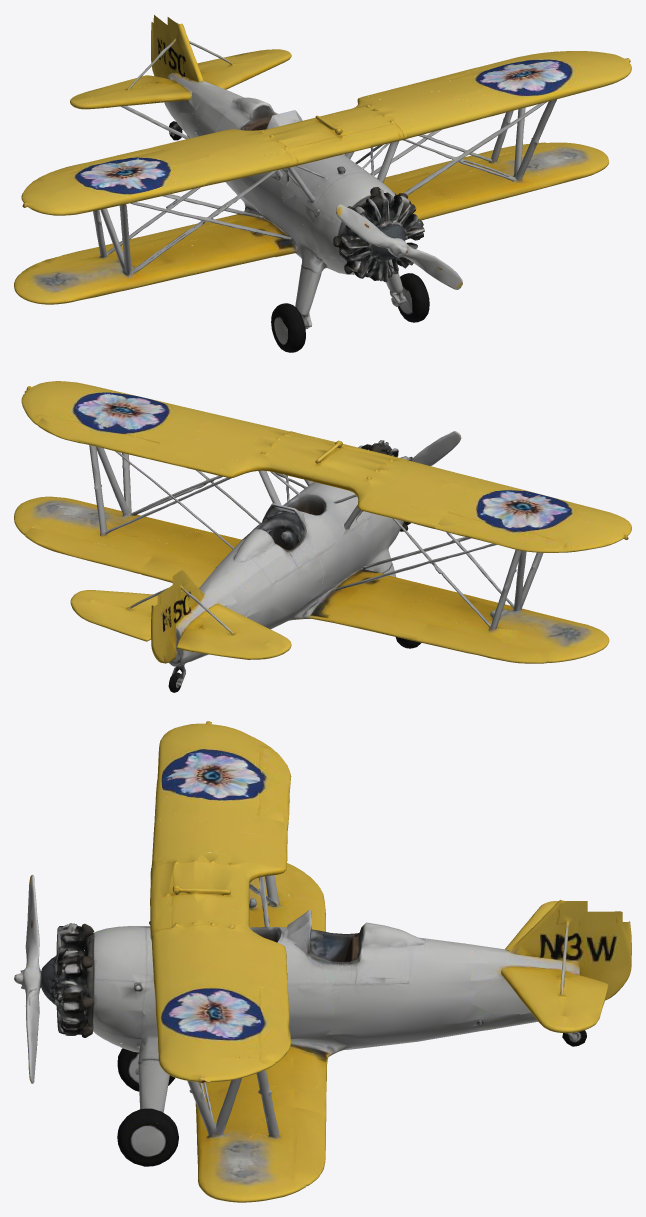
The model's file is biplane.glb.
The picture shows the model from 3 angles, top to bottom: view 1: azimuth 30°, elevation 25°; view 2: azimuth 150°, elevation 25°; view 3: azimuth 270°, elevation 25°; orthographic projection. The views are drawn at different scales.
Visible parts, largest first — view 1: tripo_node_48d347be-3a35-4177-8478-44bc4ccad605; view 2: tripo_node_48d347be-3a35-4177-8478-44bc4ccad605; view 3: tripo_node_48d347be-3a35-4177-8478-44bc4ccad605.
Part boxes in pixels (box(x1,y1,x2,y2)): tripo_node_48d347be-3a35-4177-8478-44bc4ccad605: box(14, 15, 631, 352); tripo_node_48d347be-3a35-4177-8478-44bc4ccad605: box(14, 381, 631, 692); tripo_node_48d347be-3a35-4177-8478-44bc4ccad605: box(14, 721, 631, 1202).
Bounding box in the file's own units: 1 × 0.3145 × 0.7276.
1 material, 1 textured.
